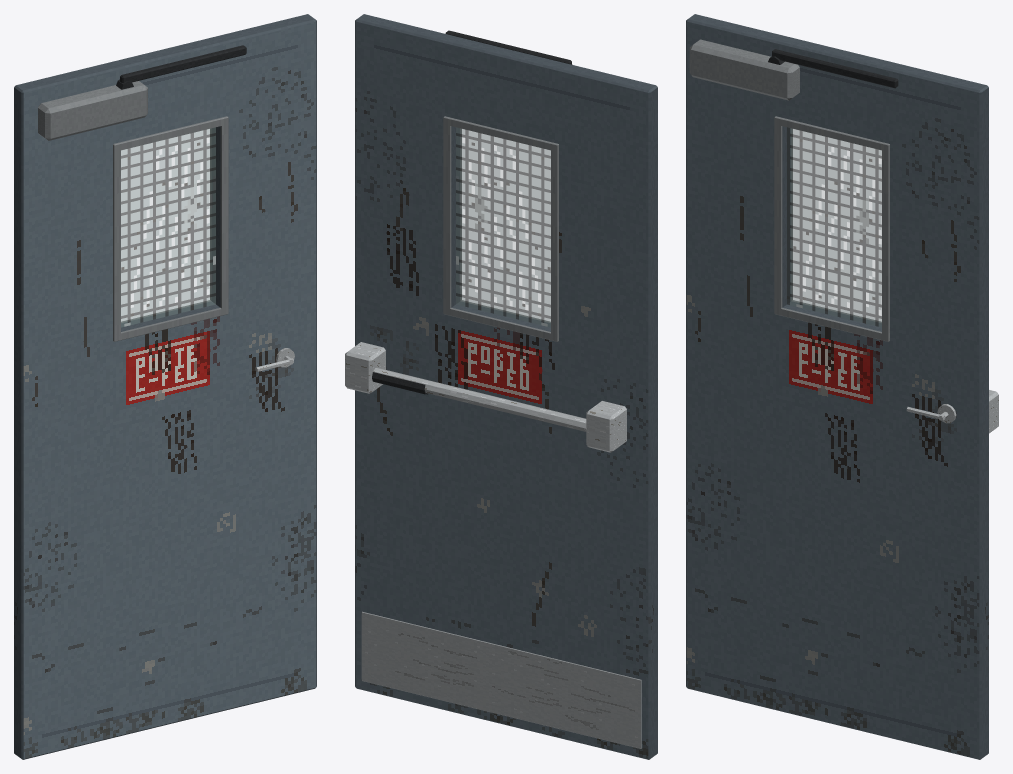
Rendered from door_fire_4.glb.
3 views of the same model, side by side, from view 1: azimuth 30°, elevation 25°; view 2: azimuth 150°, elevation 25°; view 3: azimuth 330°, elevation 25° (orthographic).
Parts seen in each view (by area): view 1: leaf_body, door_glass, glass_bead_front, door_closer, door_closer_arm, glass_bead_back; view 2: leaf_body, kick_plate, door_glass, panic_bar, glass_bead_back, door_closer_arm, panic_bar_pad; view 3: leaf_body, door_glass, glass_bead_front, door_closer, door_closer_arm.
Part boxes in pixels (x1,y1,x2,y2): leaf_body: (14,14,316,759); door_glass: (121,127,215,327); glass_bead_front: (113,116,228,341); door_closer: (38,81,147,140); door_closer_arm: (116,45,246,89); glass_bead_back: (121,128,211,322); leaf_body: (355,14,657,759); kick_plate: (361,611,641,748); door_glass: (456,127,550,327); panic_bar: (345,342,626,452); glass_bead_back: (443,116,558,341); door_closer_arm: (445,30,572,64); panic_bar_pad: (372,372,428,394); leaf_body: (686,14,988,759); door_glass: (787,127,881,327); glass_bead_front: (774,116,889,341); door_closer: (689,39,799,100); door_closer_arm: (768,49,898,88).
Bounding box in the file's own units: 0.95 × 2.06 × 0.2031.
2 materials, 2 textured.
